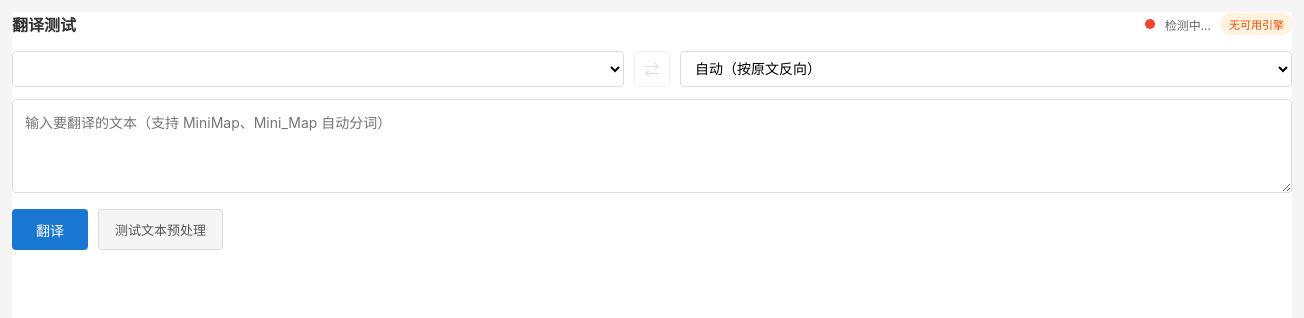
Test: TranslatePanel（翻译测试页） › 集成失败路径: 后端错误字符串直接展示给用户
This screenshot has width=1304, height=318.
Type "abc" into the text box with placeholder "输入要翻译的文本（支持 MiniMap、Mini_Map 自动分词）".
click(652, 146); type("abc")  # box [12, 99, 1292, 193]
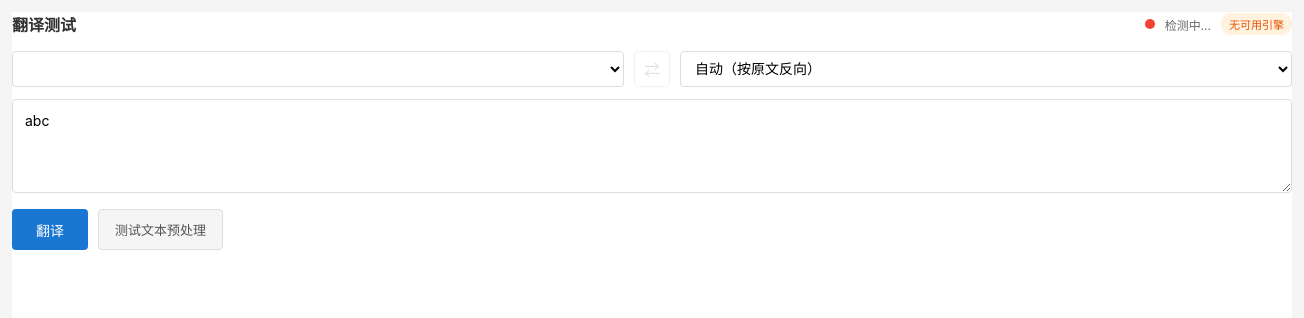
Click the button "翻译".
click(50, 230)  # box [12, 209, 88, 250]
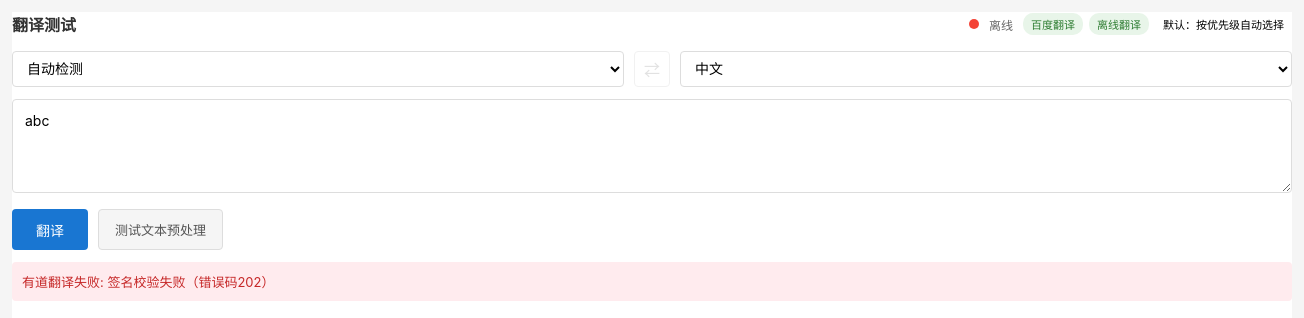
Expected: the text "有道翻译失败: 签名校验失败（错误码202）" is shown, [12, 262, 1292, 301]
